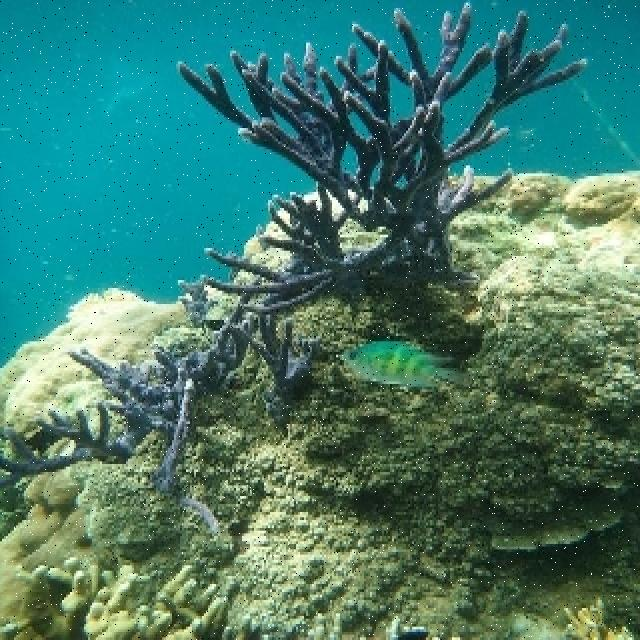fish: (343, 340, 464, 387)
reefs: (0, 2, 590, 534), (0, 475, 232, 637), (0, 288, 187, 435), (564, 168, 638, 257)
sea-floor: (58, 170, 638, 637)
